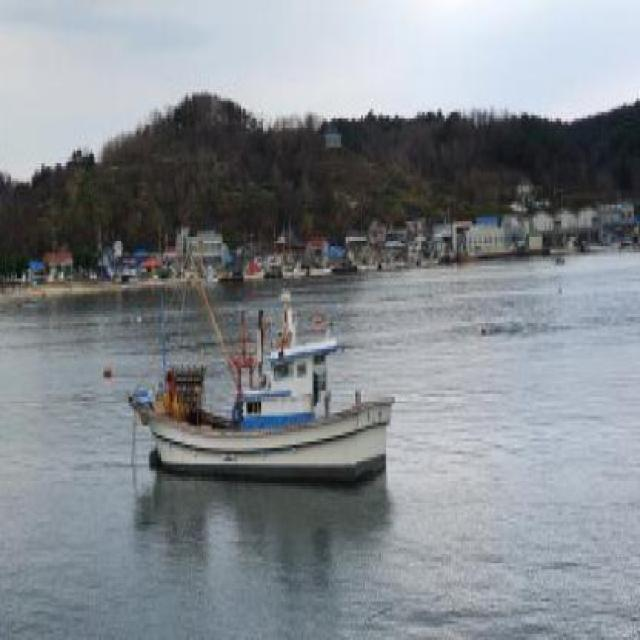fish-b: (119, 315, 410, 522)
